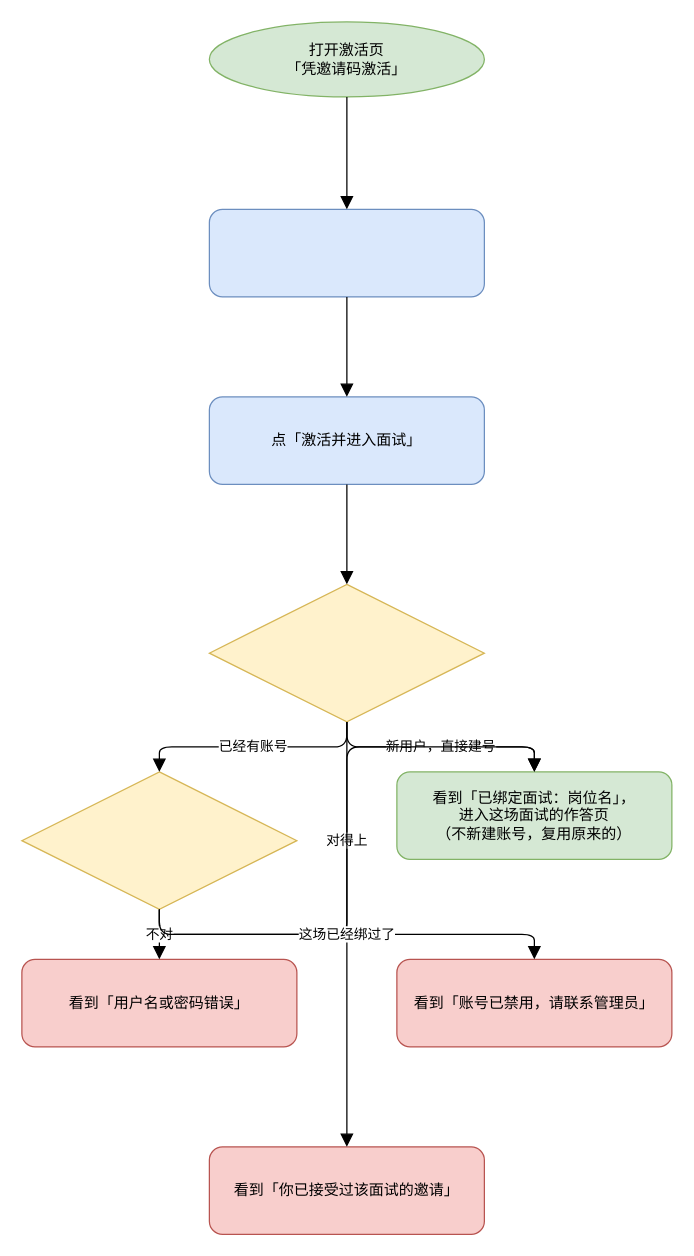
Some shapes in this 694 by 1256 pixel diagram are drawn without their labels. Each missing label, with the centre of its shape:
"填「邀请码」，再填 你已经有的「用户名」「密码」" goes at pixel 346 252.
"密码对得上吗？" goes at pixel 159 840.
"这个用户名已经有账号了吗？" goes at pixel 346 652.
